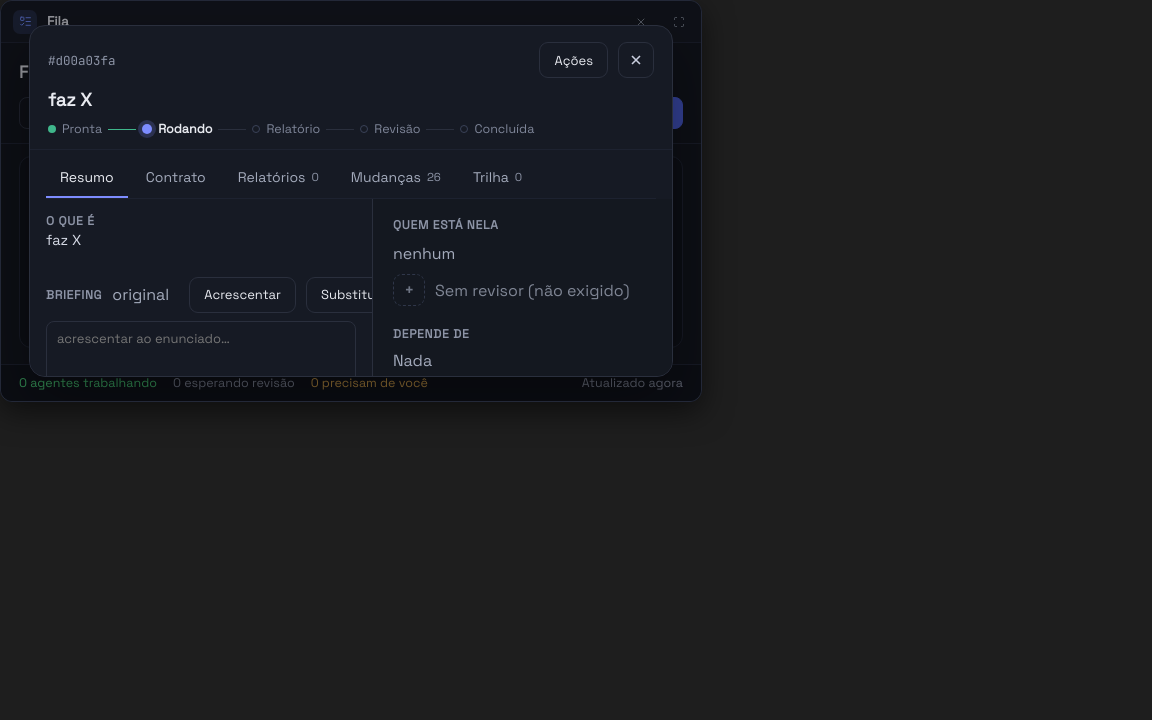
Test case: detalhe V3: lista de arquivos do diff › acima do limiar: agrupa por pasta e o untracked vira ícone com tooltip na MESMA linha
This screenshot has width=1152, height=720.
Click the button "Mudanças 26" at [396, 178], box [337,158,455,198]
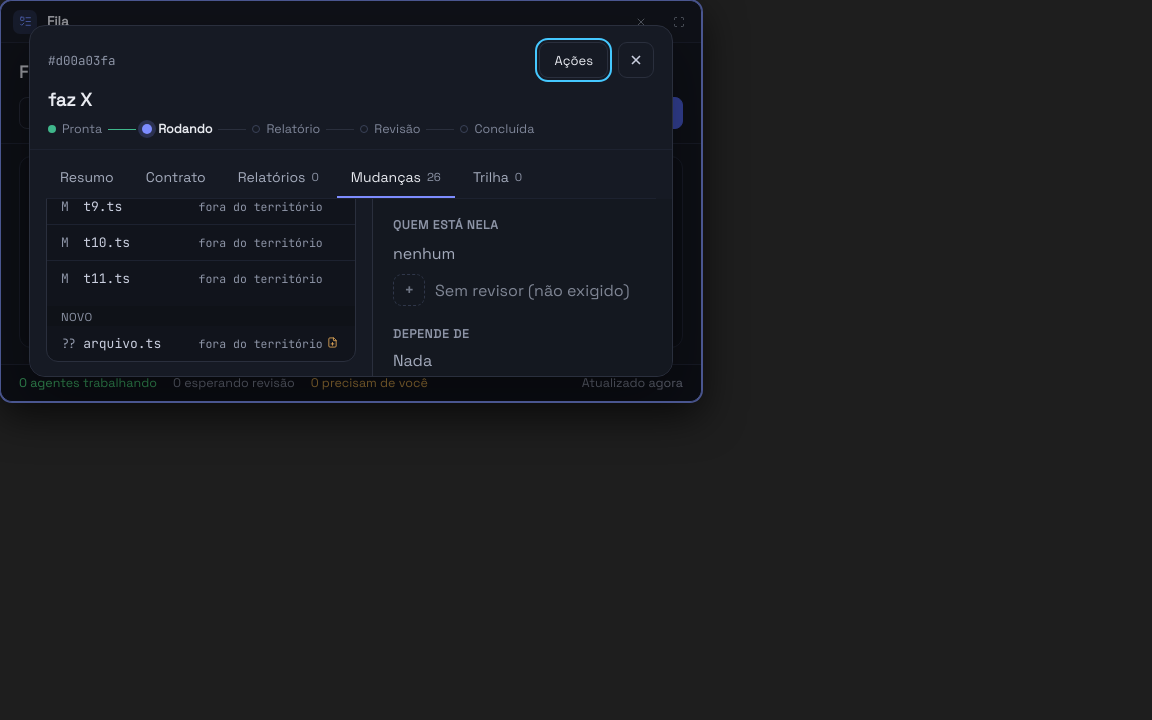
Check: the element named "arquivo novo: o diff do git não tem patch dele" is shown, box [327,337,338,348]
